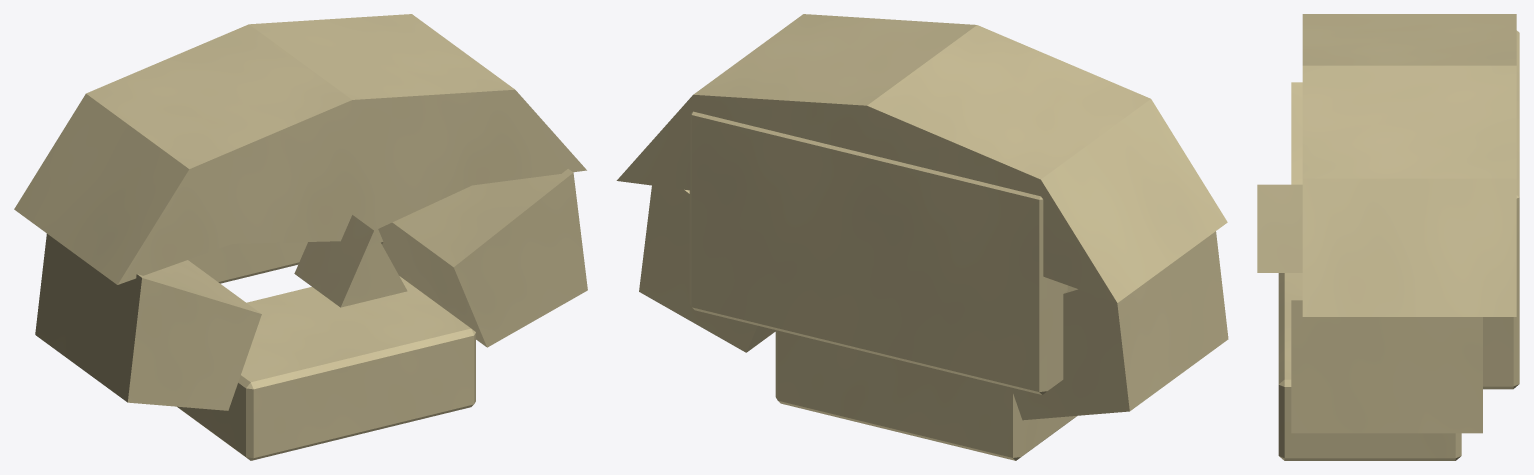
Rendered from WarrensC_WVC022_BoneBridgeKeystone_Mars_SM.fbx.
3 renders of one model, left to right at view 1: azimuth 30°, elevation 25°; view 2: azimuth 150°, elevation 25°; view 3: azimuth 270°, elevation 25°, orthographic. The views are drawn at different scales.
Parts seen in each view (by area): view 1: WarrensC_WVC022_BoneBridgeKeystone_Mars_SM.001; view 2: WarrensC_WVC022_BoneBridgeKeystone_Mars_SM.001; view 3: WarrensC_WVC022_BoneBridgeKeystone_Mars_SM.001.
Boxes of the visible parts, bbox=[...] form: WarrensC_WVC022_BoneBridgeKeystone_Mars_SM.001: bbox=[14, 14, 587, 460]; WarrensC_WVC022_BoneBridgeKeystone_Mars_SM.001: bbox=[616, 14, 1228, 460]; WarrensC_WVC022_BoneBridgeKeystone_Mars_SM.001: bbox=[1257, 14, 1519, 460].
Bounding box in the file's own units: 150 × 70 × 100.
